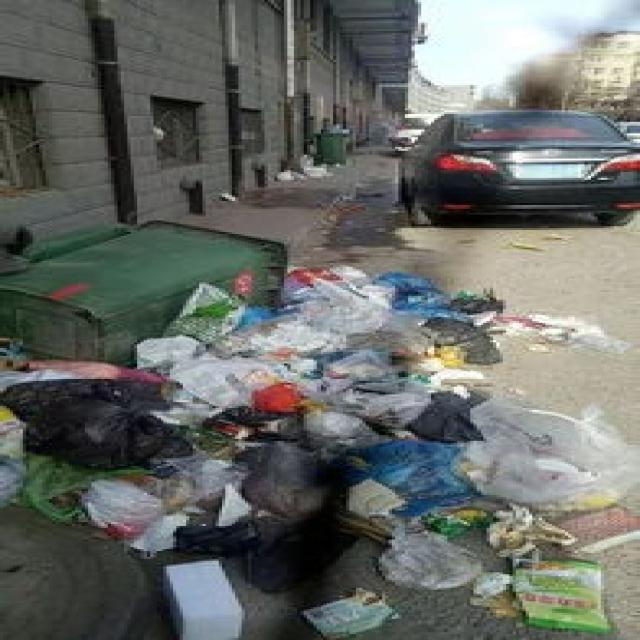garbage: (0, 263, 630, 638)
garbage_bin: (310, 130, 343, 160)
